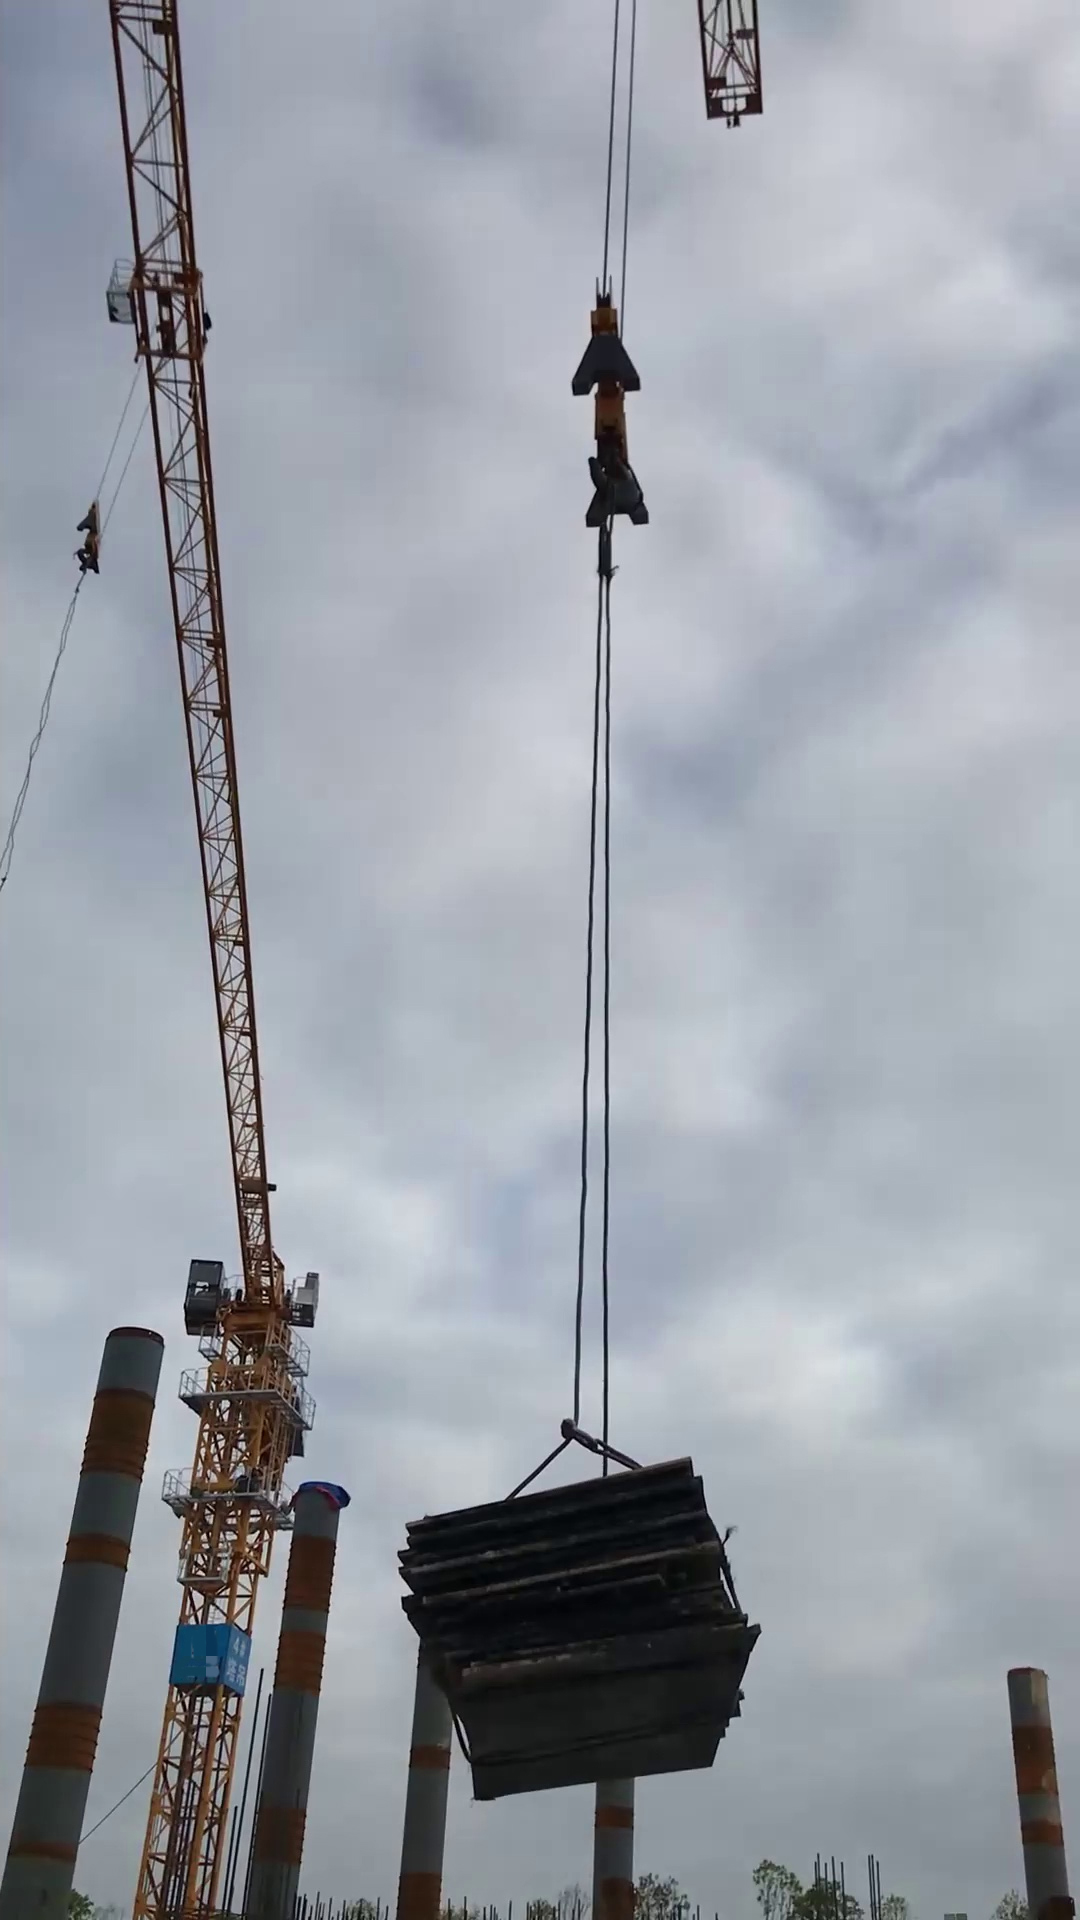board: (382, 1444, 775, 1820)
hook: (549, 256, 671, 597), (61, 489, 113, 579)
